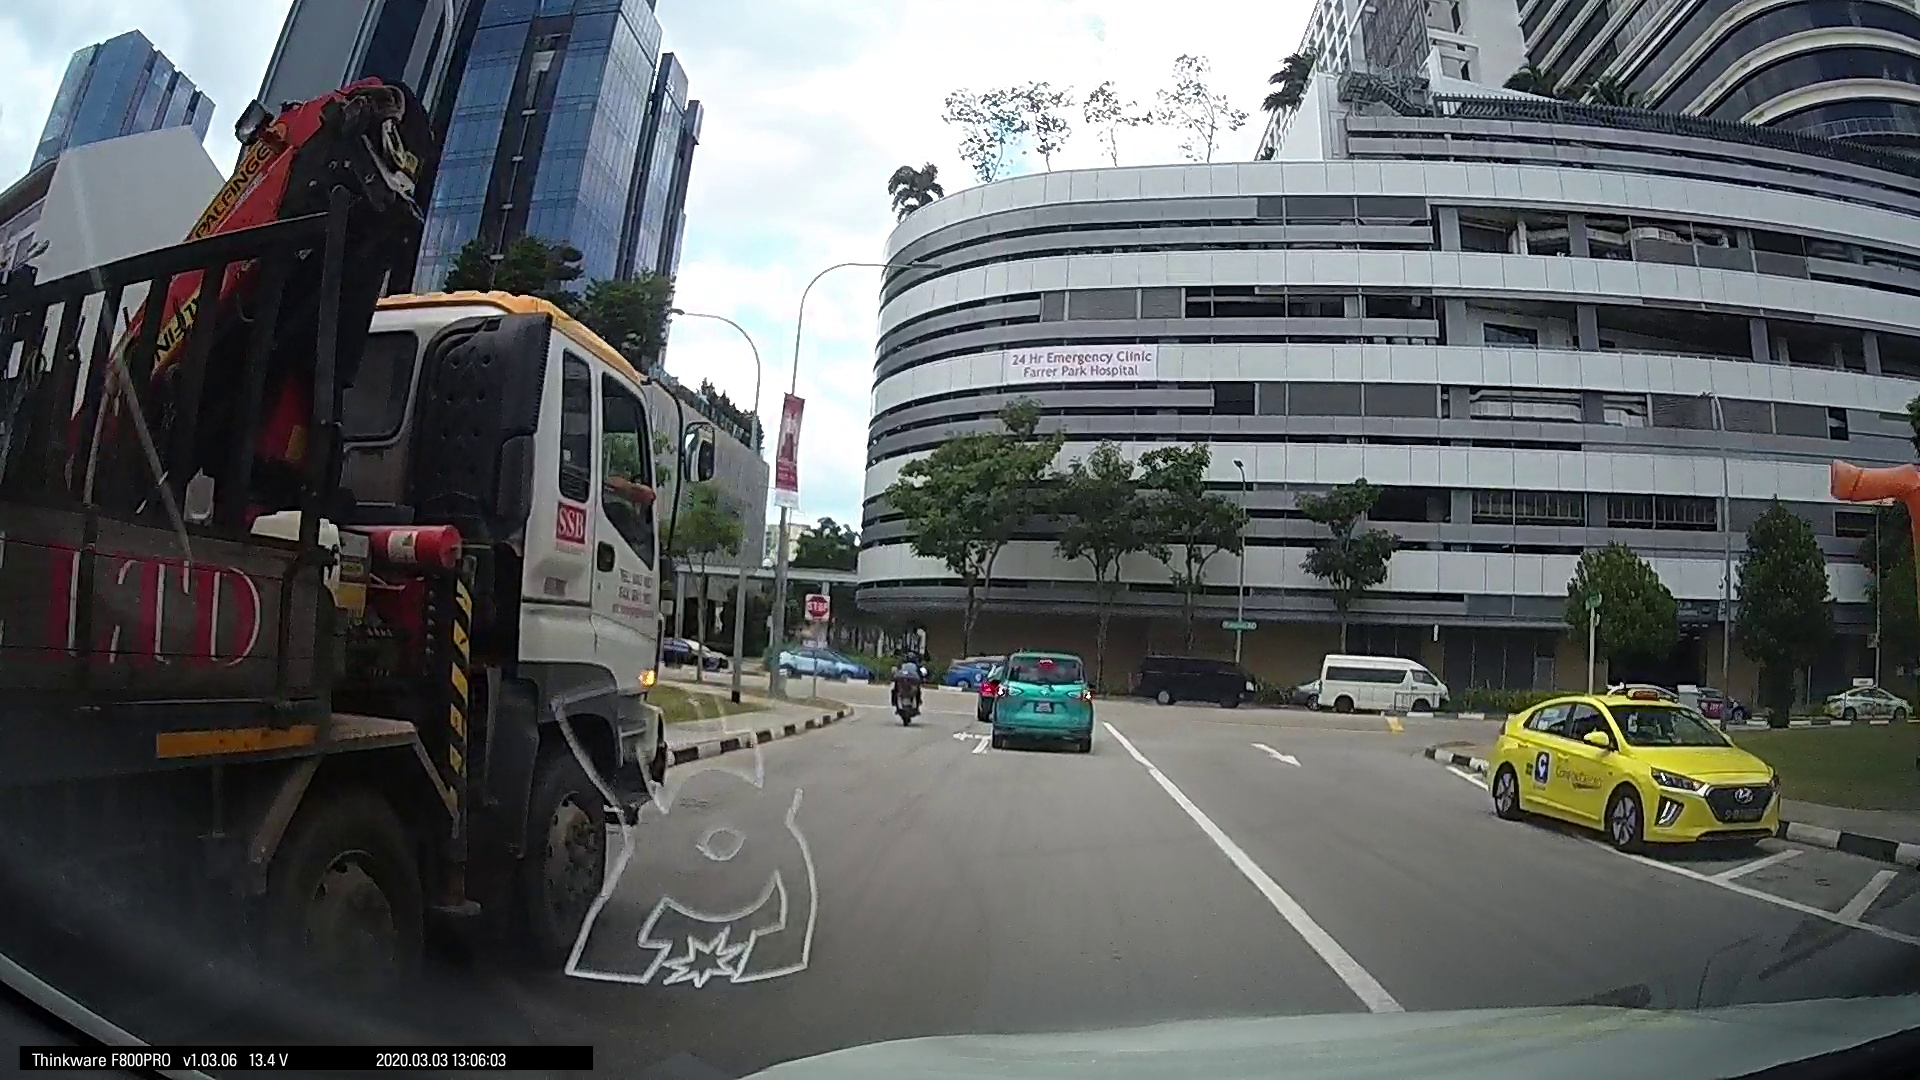Heavy Vehicle: (18, 160, 695, 1014)
Light Vehicle: (1484, 680, 1789, 861), (981, 647, 1093, 749), (1298, 649, 1449, 717), (1131, 645, 1253, 704), (781, 640, 868, 687)
Motorcycle: (884, 644, 926, 723)
